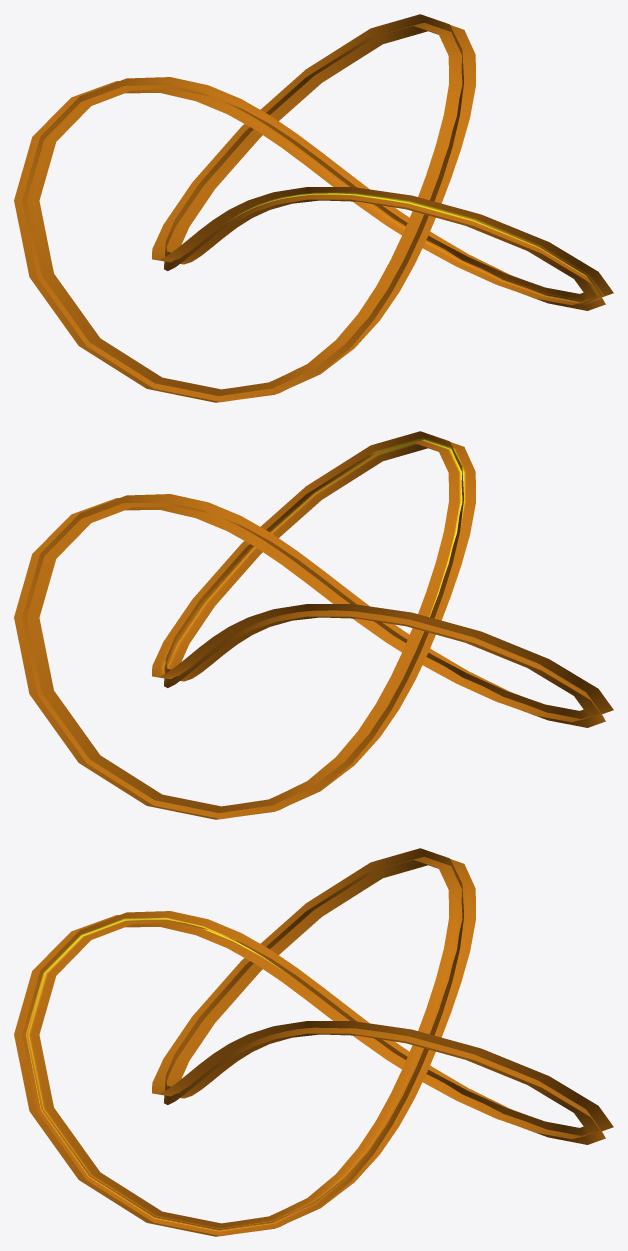
The model's file is dahuixue.FBX.
The picture shows the model from 3 angles, top to bottom: view 1: azimuth 30°, elevation 25°; view 2: azimuth 150°, elevation 25°; view 3: azimuth 270°, elevation 25°; orthographic projection.
Visible parts, largest first — view 1: Torus Knot01; view 2: Torus Knot01; view 3: Torus Knot01.
Part boxes in pixels (x1,y1,x2,y2): Torus Knot01: (14,14,613,402); Torus Knot01: (14,431,613,819); Torus Knot01: (14,848,613,1236).
Size of what is drawn, in the model's own units: 17.72 by 19.09 by 7.29.
